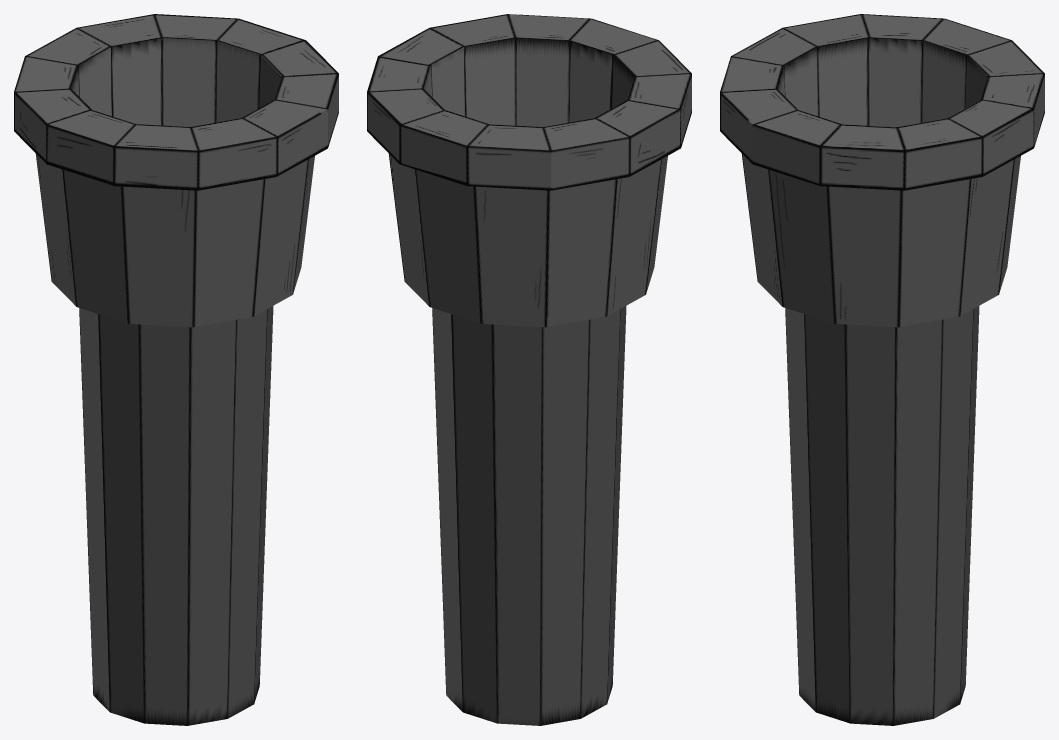
Rendered from puit_long.fbx.
3 renders of one model, left to right at view 1: azimuth 30°, elevation 25°; view 2: azimuth 150°, elevation 25°; view 3: azimuth 270°, elevation 25°, orthographic.
Parts seen in each view (by area): view 1: puit_long; view 2: puit_long; view 3: puit_long.
Part boxes in pixels (bbox=[...]): puit_long: bbox=[14, 14, 338, 725]; puit_long: bbox=[367, 14, 691, 725]; puit_long: bbox=[720, 14, 1044, 725].
Bounding box in the file's own units: 159 × 328 × 159.
